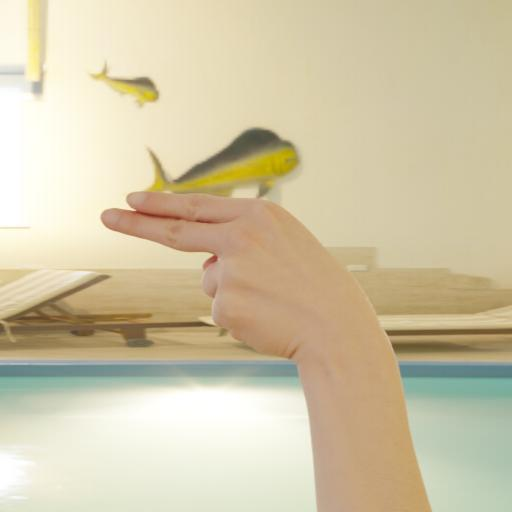H: (86, 170, 416, 406)
